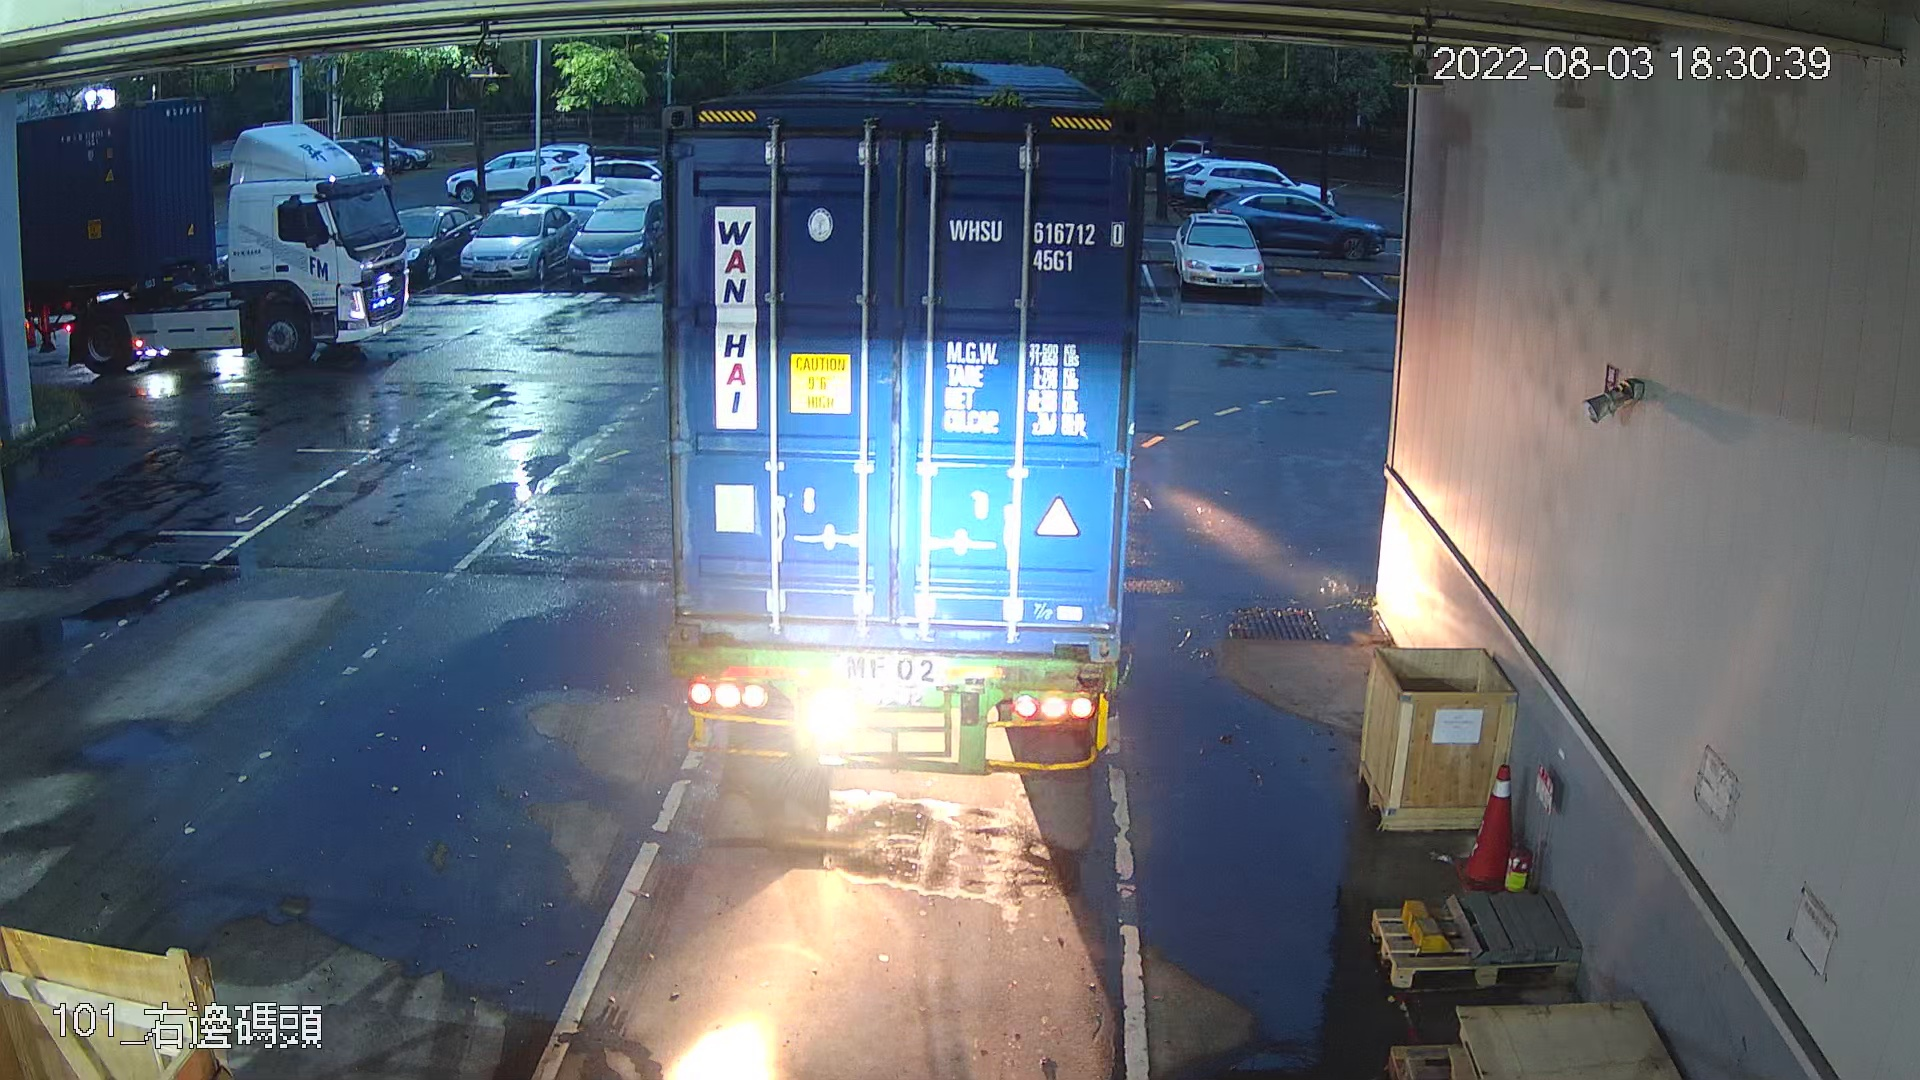container: (942, 208, 1135, 280)
